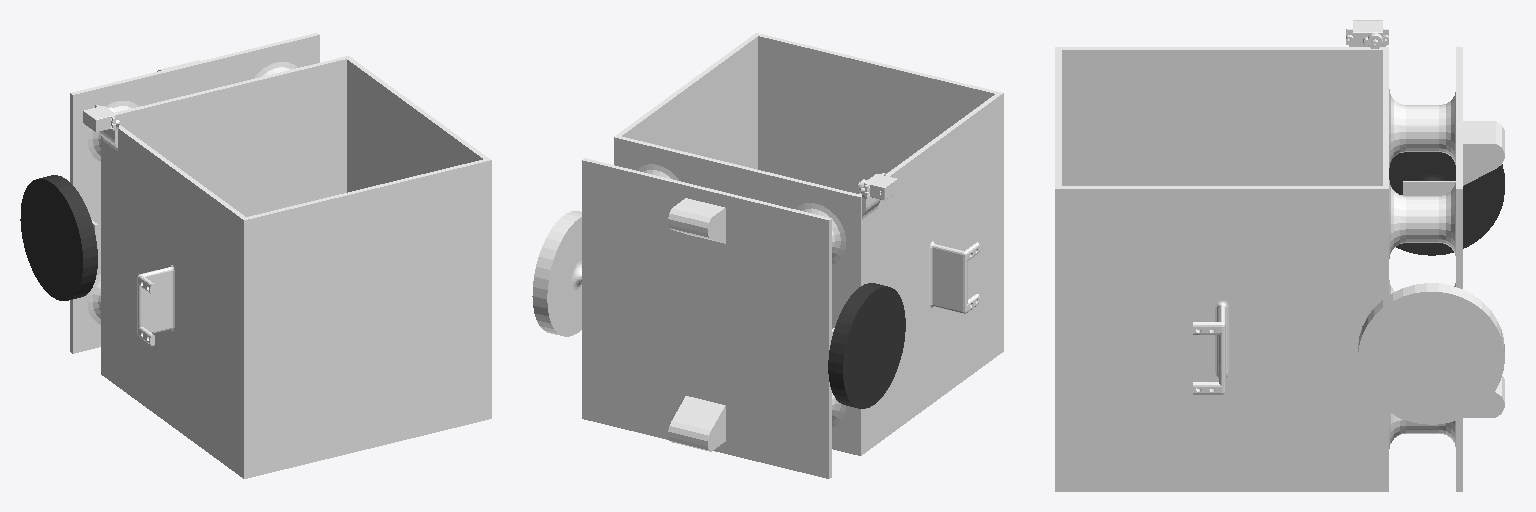
robot.urdf — wall_E_assembly:
<?xml version="1.0" encoding="utf-8"?>
<!-- This URDF was automatically created by SolidWorks to URDF Exporter! Originally created by [author] ([email redacted]) 
     Commit Version: 1.6.0-4-g7f85cfe  Build Version: 1.6.7995.38578
     For more information, please see http://wiki.ros.org/sw_urdf_exporter -->
<robot
  name="wall_E_assembly">
  <link
    name="base_link">
    <inertial>
      <origin
        xyz="-0.000294443024337728 -0.0161164283794354 0.163496828849898"
        rpy="0 0 0" />
      <mass
        value="2.19420702500821" />
      <inertia
        ixx="0.0409394751953635"
        ixy="4.61634562657987E-05"
        ixz="-2.0607002363928E-05"
        iyy="0.0445663195896488"
        iyz="0.00174462676652719"
        izz="0.0319013713894976" />
    </inertial>
    <visual>
      <origin
        xyz="0 0 0"
        rpy="0 0 0" />
      <geometry>
        <mesh
          filename="package://wall_E_assembly/meshes/base_link.STL" />
      </geometry>
      <material
        name="">
        <color
          rgba="1 1 1 1" />
      </material>
    </visual>
    <collision>
      <origin
        xyz="0 0 0"
        rpy="0 0 0" />
      <geometry>
        <mesh
          filename="package://wall_E_assembly/meshes/base_link.STL" />
      </geometry>
    </collision>
  </link>
  <link
    name="wheel_left">
    <inertial>
      <origin
        xyz="-6.9389E-18 -3.296E-17 0.027385"
        rpy="0 0 0" />
      <mass
        value="0.17927" />
      <inertia
        ixx="0.00013804"
        ixy="0"
        ixz="-3.8423E-20"
        iyy="0.00013804"
        iyz="-2.1585E-20"
        izz="0.00026879" />
    </inertial>
    <visual>
      <origin
        xyz="0 0 0"
        rpy="0 0 0" />
      <geometry>
        <mesh
          filename="package://wall_E_assembly/meshes/wheel_left.STL" />
      </geometry>
      <material
        name="rubber">
        <color
          rgba="0.29804 0.29804 0.29804 1" />
      </material>
    </visual>
    <collision>
      <origin
        xyz="0 0 0"
        rpy="0 0 0" />
      <geometry>
        <mesh
          filename="package://wall_E_assembly/meshes/wheel_left.STL" />
      </geometry>
    </collision>
  </link>
  <joint
    name="wheel_left"
    type="continuous">
    <origin
      xyz="-0.122 -0.055 0"
      rpy="-1.5708 0.23062 1.5708" />
    <parent
      link="base_link" />
    <child
      link="wheel_left" />
    <axis
      xyz="1 0 0" />
  </joint>
  <link
    name="wheel_right">
    <inertial>
      <origin
        xyz="0 0 0"
        rpy="0 0 0" />
      <mass
        value="0" />
      <inertia
        ixx="0"
        ixy="0"
        ixz="0"
        iyy="0"
        iyz="0"
        izz="0" />
    </inertial>
    <visual>
      <origin
        xyz="0 0 0"
        rpy="0 0 0" />
      <geometry>
        <mesh
          filename="package://wall_E_assembly/meshes/wheel_right.STL" />
      </geometry>
      <material
        name="rubber">
        <color
          rgba="1 1 1 1" />
      </material>
    </visual>
    <collision>
      <origin
        xyz="0 0 0"
        rpy="0 0 0" />
      <geometry>
        <mesh
          filename="package://wall_E_assembly/meshes/wheel_right.STL" />
      </geometry>
    </collision>
  </link>
  <joint
    name="wheel_right"
    type="continuous">
    <origin
      xyz="0.122 -0.055 0"
      rpy="1.5708 1.179 1.5708" />
    <parent
      link="base_link" />
    <child
      link="wheel_right" />
    <axis
      xyz="1 0 0" />
  </joint>
</robot>

--- Render facts (derived) ---
3 views of the same robot in one strip: view 1: azimuth 30°, elevation 25°; view 2: azimuth 150°, elevation 25°; view 3: azimuth 270°, elevation 25° (orthographic).
Robot: wall_E_assembly — 3 links, 2 joints (2 continuous); root link base_link; default pose: all joints at 0.
Visible links, largest first — view 1: base_link, wheel_left; view 2: base_link, wheel_left, wheel_right; view 3: base_link, wheel_right, wheel_left.
Boxes of the visible links, x1,y1,x2,y2 form: base_link: (70, 33, 491, 478); wheel_left: (20, 175, 97, 300); base_link: (582, 33, 1003, 478); wheel_left: (828, 283, 905, 408); wheel_right: (532, 211, 581, 336); base_link: (1055, 20, 1504, 491); wheel_right: (1358, 283, 1504, 424); wheel_left: (1389, 152, 1504, 255).
Bounding box of the posed robot: 0.3208 × 0.3365 × 0.2622 m (x, y, z).
3 mesh visuals loaded from 3 distinct referenced files (3 binary STL).